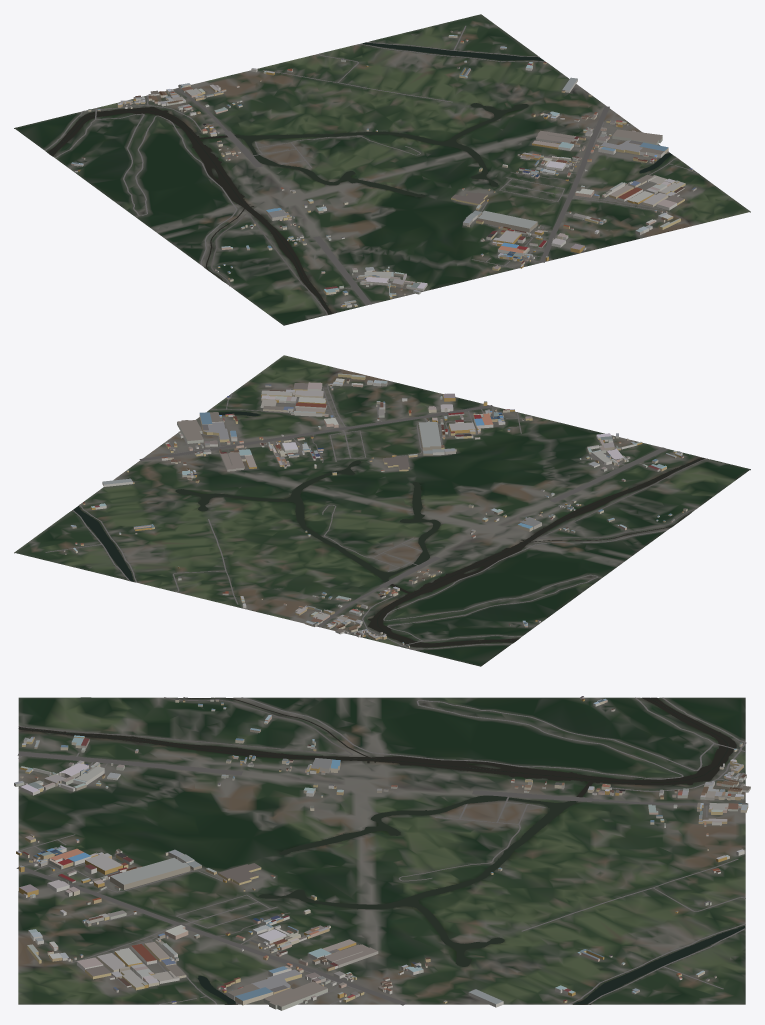
3 views of the same model, one above another, from view 1: azimuth 30°, elevation 25°; view 2: azimuth 150°, elevation 25°; view 3: azimuth 270°, elevation 25° (orthographic). The views are drawn at different scales.
Visible parts, largest first — view 1: ground, buildings, water, roads; view 2: ground, buildings, water, roads; view 3: ground, buildings, water, roads.
Part boxes in pixels (x1,y1,x2,y2): ground: (14,14,750,325); buildings: (71,30,696,307); water: (47,42,672,314); roads: (45,25,698,314); ground: (14,355,750,666); buildings: (62,373,687,647); water: (73,411,705,647); roads: (45,385,707,649); ground: (18,697,745,1004); buildings: (14,696,750,1010); water: (18,697,744,1004); roads: (16,697,746,1005).
Size of the model in its own units: 1429 by 15.7 by 1420.
